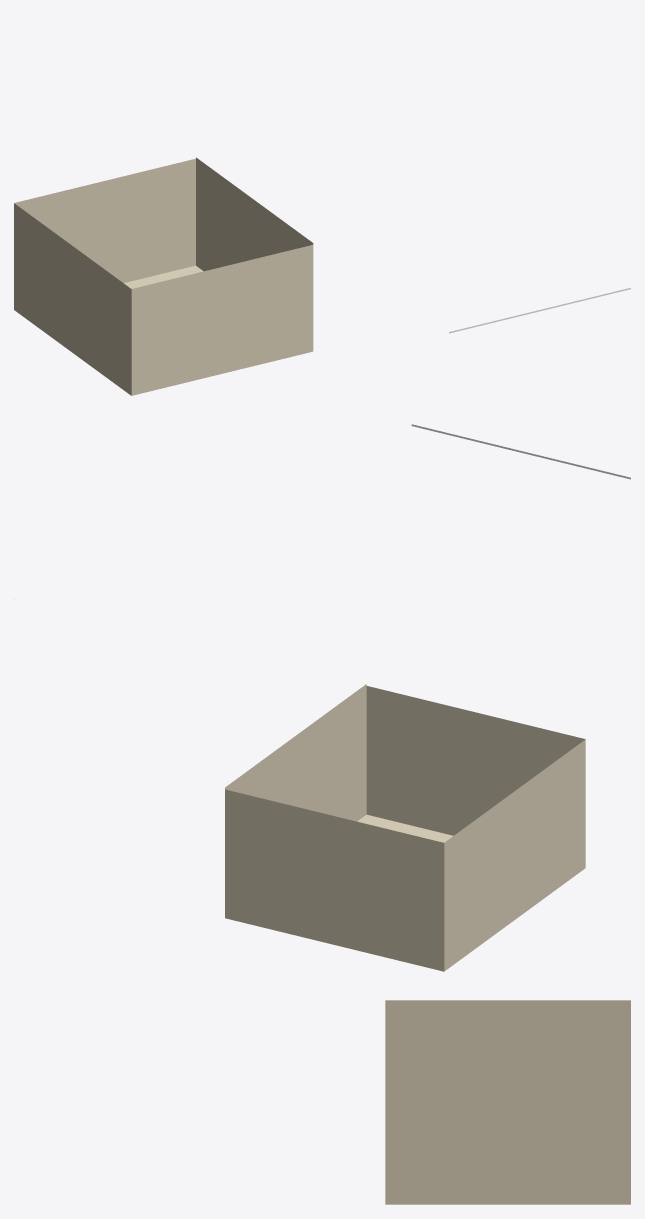
File: open_box.dae
The picture shows the model from 3 angles, top to bottom: view 1: azimuth 30°, elevation 25°; view 2: azimuth 150°, elevation 25°; view 3: azimuth 270°, elevation 25°; orthographic projection. The views are drawn at different scales.
Parts seen in each view (by area): view 1: SketchUp_006; view 2: SketchUp_006; view 3: SketchUp_006.
Boxes of the visible parts, bbox=[...] form: SketchUp_006: bbox=[14, 157, 313, 395]; SketchUp_006: bbox=[225, 684, 585, 971]; SketchUp_006: bbox=[385, 1000, 630, 1204].
Size of the model in its own units: 3.86 by 5.39 by 2.15.
